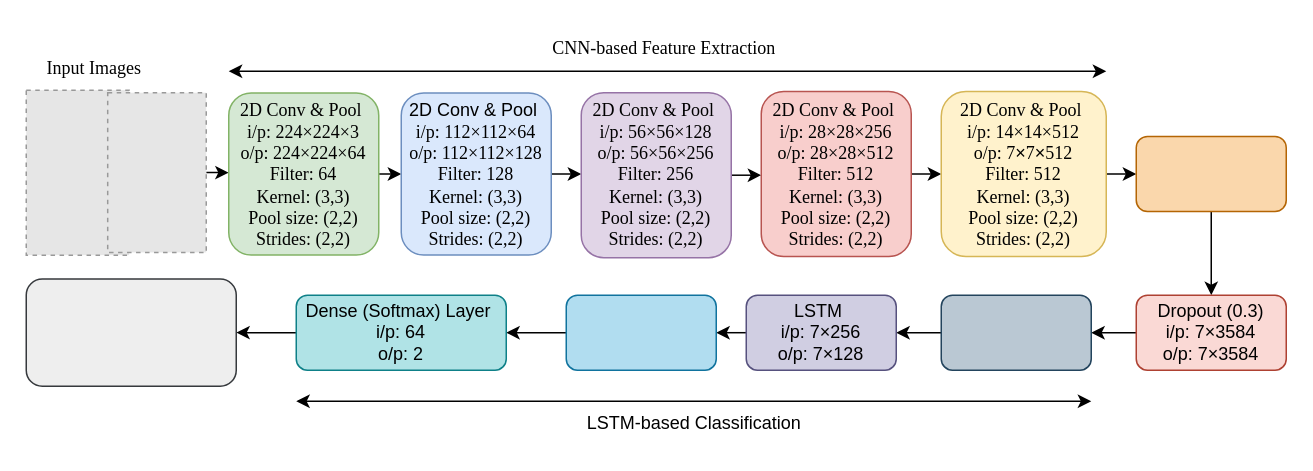
Some shapes in this 1313 by 471 pixel diagram are drawn without their labels. Grey dashed boxes stand in for pictures. The centre of each missing label's shape, as x and y in pixels:
"Classification Output (2): - Clean Image(s) - Dusty Image(s)" goes at pixel 130 332.
"Flatten Layer i/p: 7×7×512 o/p: 7×3584" goes at pixel 1210 173.
"LSTM i/p: 7×128 o/p: 7×64" goes at pixel 640 332.
"LSTM i/p: 7×3584 o/p: 7×256" goes at pixel 1015 332.
